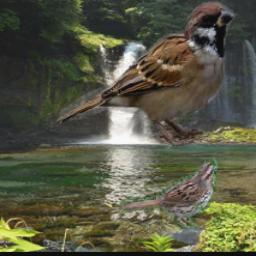Sparrow: (50, 0, 239, 148), (119, 158, 218, 228)
